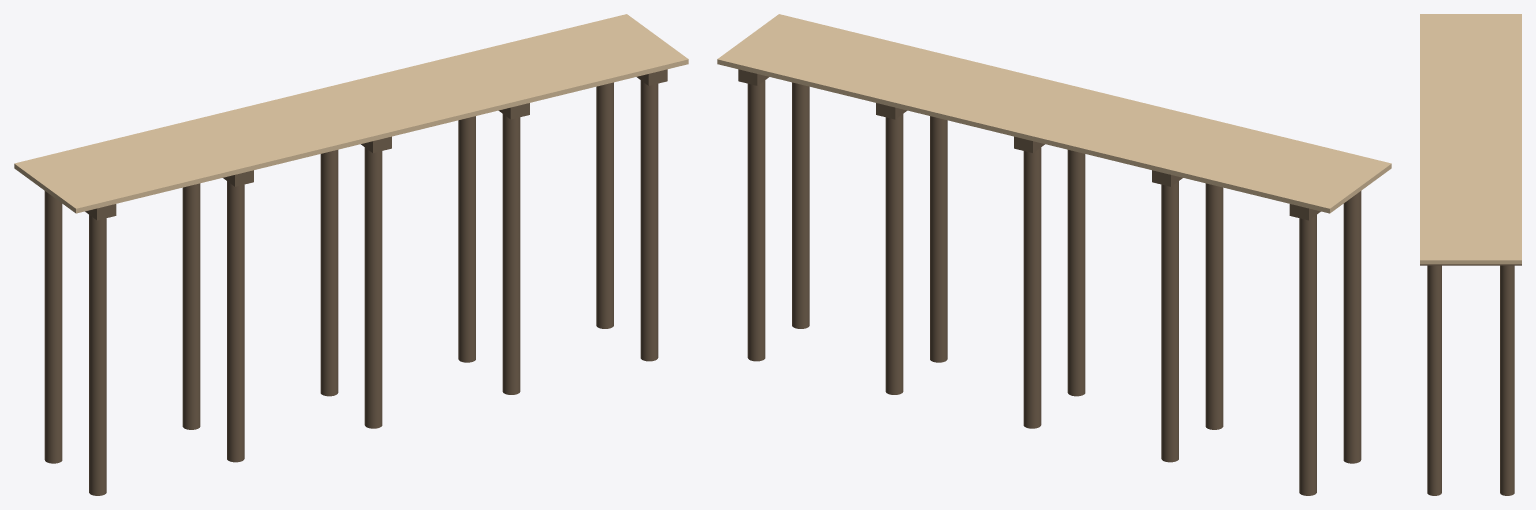
Rendered from pier_pilings.glb.
3 views of the same model, side by side, from view 1: azimuth 30°, elevation 25°; view 2: azimuth 150°, elevation 25°; view 3: azimuth 270°, elevation 25° (orthographic). The views are drawn at different scales.
Parts seen in each view (by area): view 1: deck, piling_4a, piling_2a, piling_3a, piling_0b, piling_1a, piling_0a, piling_2b, piling_1b, piling_4b, piling_3b; view 2: deck, piling_4b, piling_2b, piling_3b, piling_0a, piling_1b, piling_0b, piling_2a, piling_1a, piling_4a, piling_3a; view 3: deck, piling_4a, piling_4b, cap_4.
Boxes of the visible parts, x1,y1,x2,y2 form: deck: [14, 14, 688, 213]; piling_4a: [640, 80, 658, 361]; piling_2a: [364, 147, 382, 428]; piling_3a: [502, 114, 520, 394]; piling_0b: [44, 191, 62, 463]; piling_1a: [227, 181, 244, 462]; piling_0a: [89, 215, 106, 495]; piling_2b: [320, 150, 338, 396]; piling_1b: [182, 183, 200, 429]; piling_4b: [596, 82, 613, 328]; piling_3b: [458, 116, 475, 362]; deck: [717, 14, 1391, 213]; piling_4b: [747, 80, 765, 361]; piling_2b: [1023, 147, 1041, 428]; piling_3b: [885, 114, 903, 394]; piling_0a: [1343, 191, 1361, 463]; piling_1b: [1161, 181, 1178, 462]; piling_0b: [1299, 215, 1316, 495]; piling_2a: [1067, 150, 1085, 396]; piling_1a: [1205, 183, 1223, 429]; piling_4a: [792, 82, 809, 328]; piling_3a: [930, 116, 947, 362]; deck: [1420, 14, 1521, 264]; piling_4a: [1427, 265, 1441, 495]; piling_4b: [1500, 265, 1514, 495]; cap_4: [1420, 264, 1521, 265].
Bounding box in the file's own units: 16 × 7.42 × 2.8.
